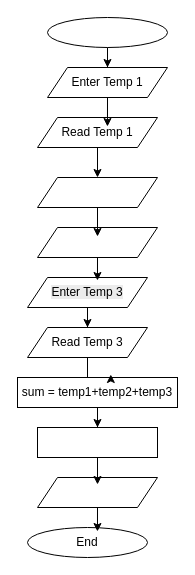
This 195x575 diagram has some shape labels left out. The centre of each missing label's shape, as x and y in pixels:
"Enter Temp 2" belongs at pixel 97 192.
"Read Temp 2" belongs at pixel 97 242.
"Start" belongs at pixel 107 32.
